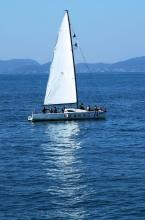fanchuan: (25, 7, 114, 125)
